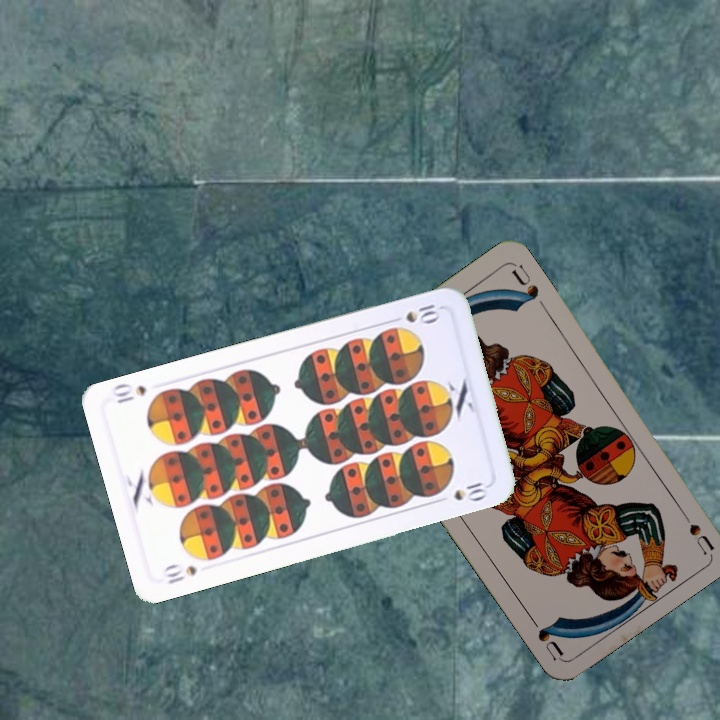S10: (385, 298, 443, 326), (162, 561, 200, 587)
SU: (673, 501, 716, 556)
